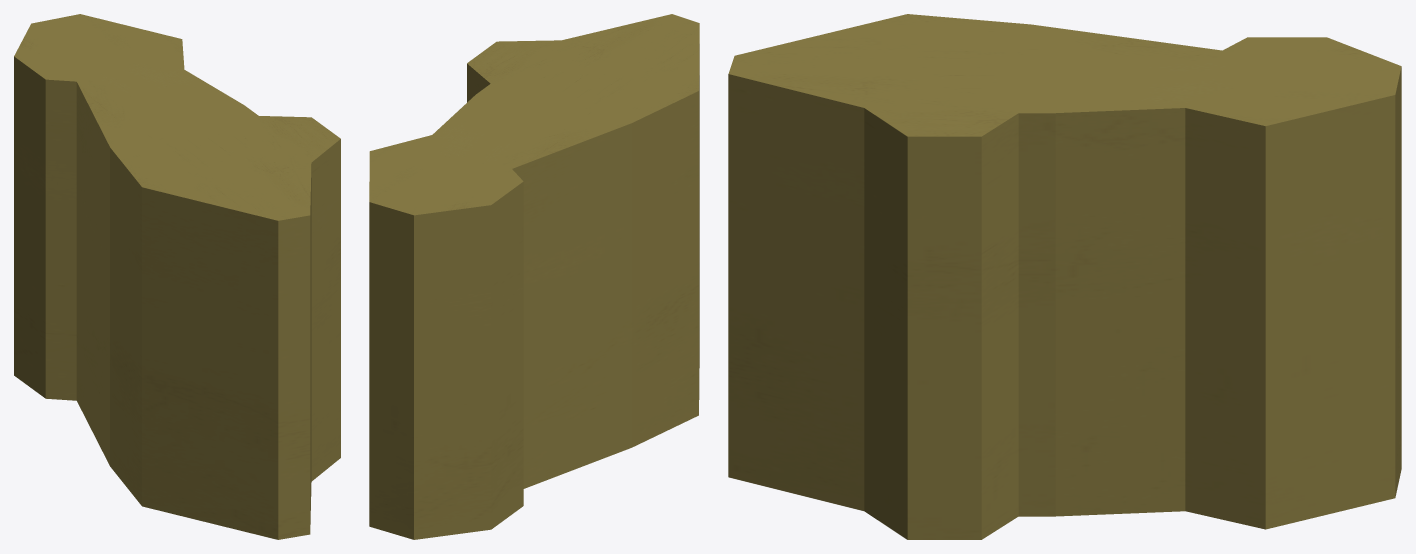
The model's file is albania.DAE.
The picture shows the model from 3 angles, left to right: view 1: azimuth 30°, elevation 25°; view 2: azimuth 150°, elevation 25°; view 3: azimuth 270°, elevation 25°; orthographic projection. The views are drawn at different scales.
Parts seen in each view (by area): view 1: Albania; view 2: Albania; view 3: Albania.
Part boxes in pixels (x1=…): Albania: x1=14, y1=14, x2=340, y2=539; Albania: x1=369, y1=14, x2=699, y2=539; Albania: x1=728, y1=14, x2=1401, y2=539.
Size of the model in its own units: 16.3 by 37.81 by 25.
1 material, 1 textured.
